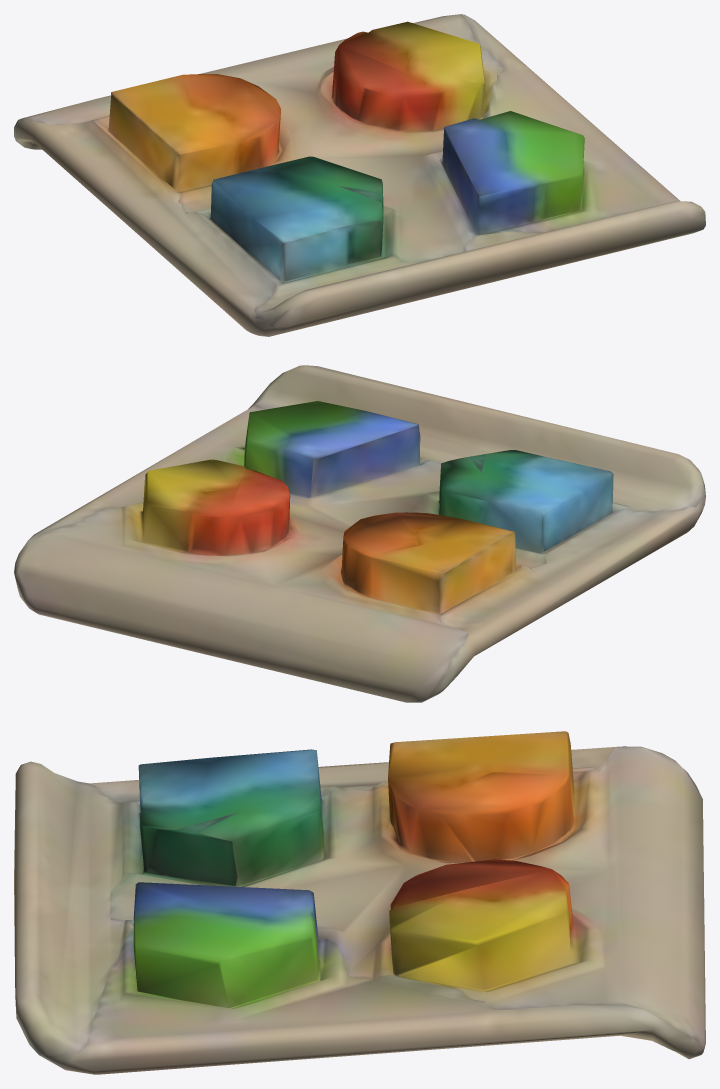
Rendered from SHAPE_MATCHING_NxacpAY9jDt-medium.glb.
The picture shows the model from 3 angles, top to bottom: view 1: azimuth 30°, elevation 25°; view 2: azimuth 150°, elevation 25°; view 3: azimuth 270°, elevation 25°; orthographic projection. The views are drawn at different scales.
Visible parts, largest first — view 1: SHAPE_MATCHING_NxacpAY9jDt; view 2: SHAPE_MATCHING_NxacpAY9jDt; view 3: SHAPE_MATCHING_NxacpAY9jDt.
Part boxes in pixels (x1,y1,x2,y2): SHAPE_MATCHING_NxacpAY9jDt: (14,14,705,336); SHAPE_MATCHING_NxacpAY9jDt: (14,365,705,702); SHAPE_MATCHING_NxacpAY9jDt: (14,731,705,1074).
Size of the model in its own units: 0.1746 by 0.0344 by 0.189.
1 material, 1 textured.
